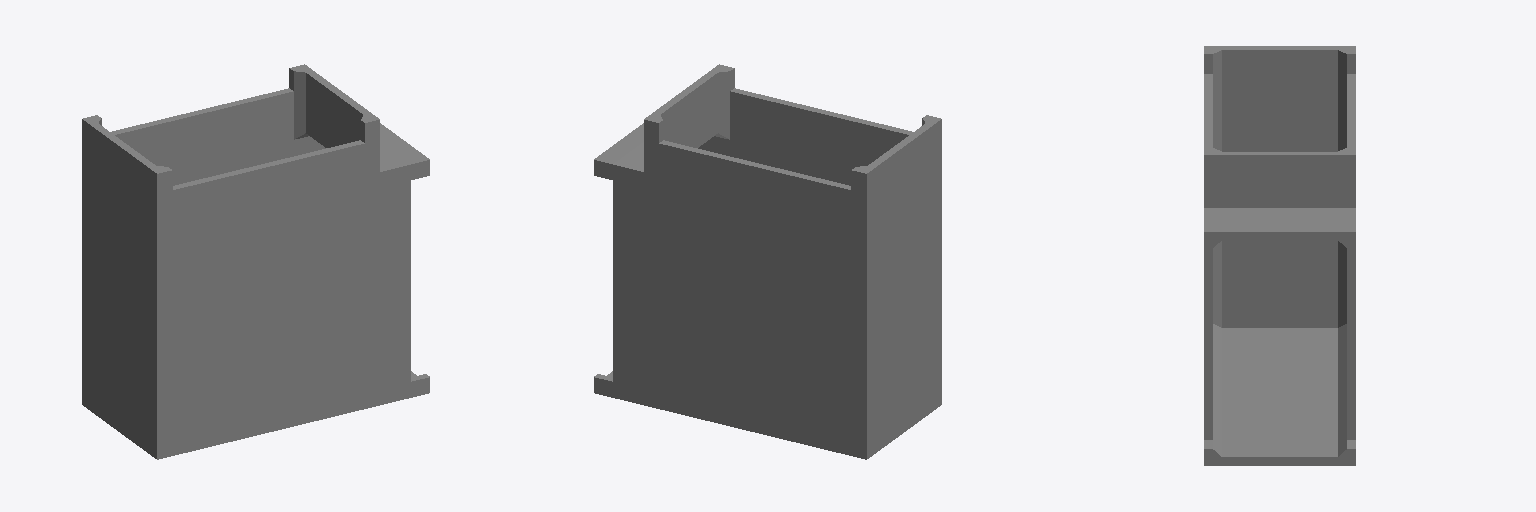
3 views of the same model, side by side, from view 1: azimuth 30°, elevation 25°; view 2: azimuth 150°, elevation 25°; view 3: azimuth 270°, elevation 25° (orthographic).
Visible parts, largest first — view 1: SM_90Turn_E; view 2: SM_90Turn_E; view 3: SM_90Turn_E.
Boxes of the visible parts, <box> form: SM_90Turn_E: <box>82,64,429,459</box>; SM_90Turn_E: <box>594,64,941,459</box>; SM_90Turn_E: <box>1204,46,1355,465</box>.
Size of the model in its own units: 280 by 280 by 134.